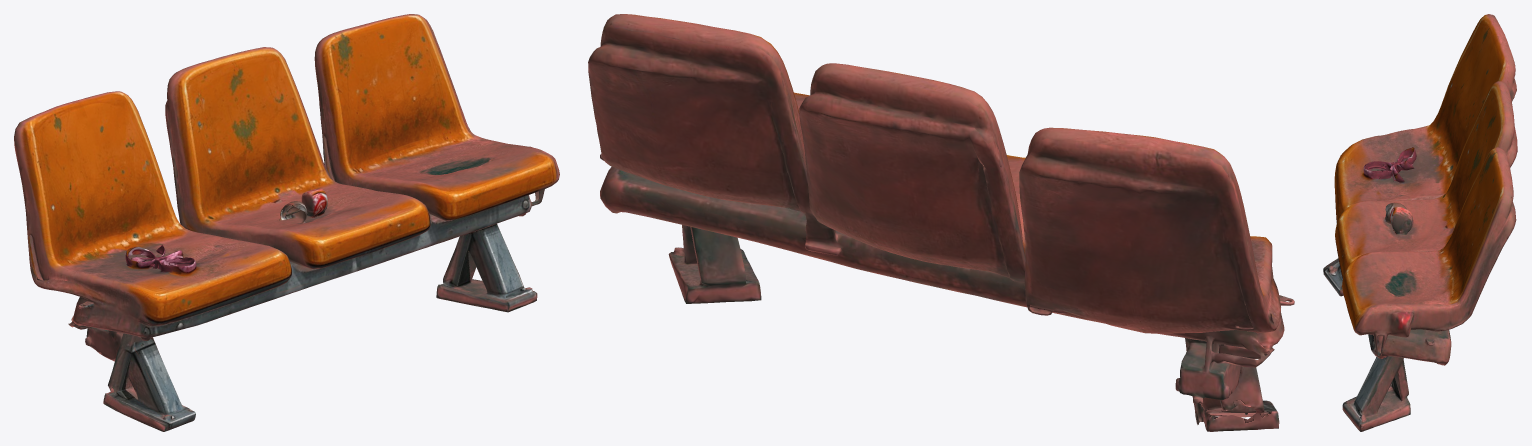
File: bench.glb
3 views of the same model, side by side, from view 1: azimuth 30°, elevation 25°; view 2: azimuth 150°, elevation 25°; view 3: azimuth 270°, elevation 25° (orthographic). The views are drawn at different scales.
Parts seen in each view (by area): view 1: piece; view 2: piece; view 3: piece.
Part boxes in pixels (x1=…): piece: x1=14, y1=14, x2=559, y2=431; piece: x1=588, y1=14, x2=1294, y2=431; piece: x1=1323, y1=14, x2=1517, y2=431.
Bounding box in the file's own units: 1.59 × 0.85 × 0.6.
Materials: 1 (1 with a texture image).
